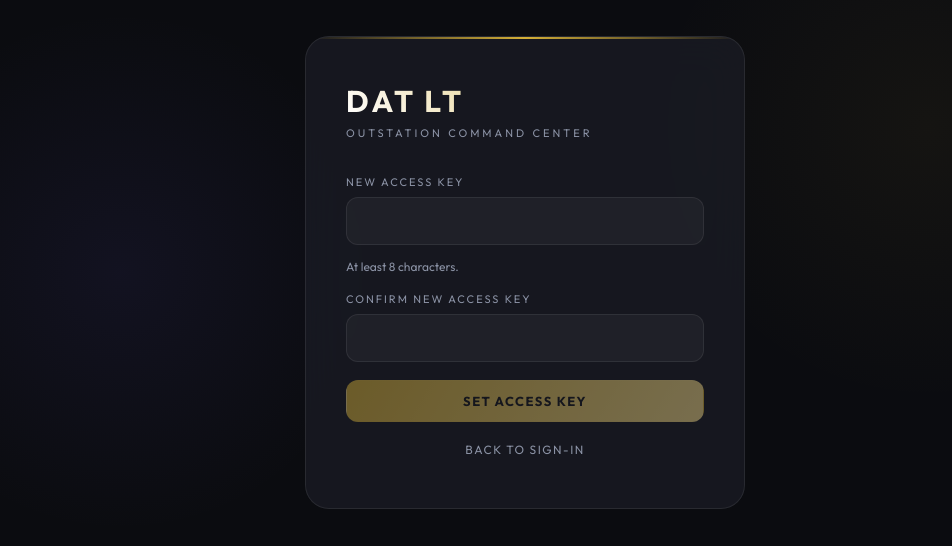
Test: Login page › following a reset link › will not submit two access keys that do not match
This screenshot has width=952, height=546.
Expected: the element with test id "auth-ready" is shown, x1=305 y1=36 x2=745 y2=508
Step 1. Type "BrandNewPassword9!" into the password field labelled "New Access Key" → (525, 220), box x1=346 y1=196 x2=704 y2=244
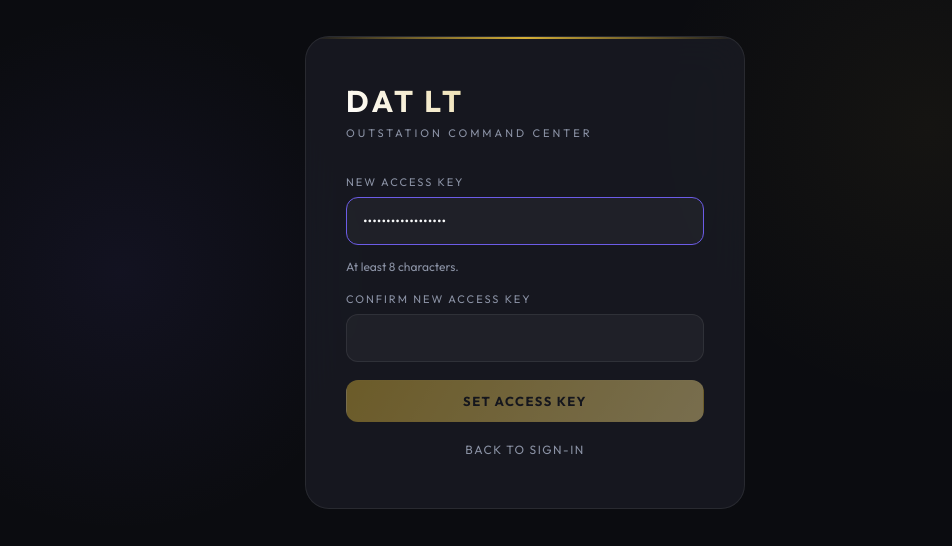
Step 2. Type "SomethingElse9!" into the password field labelled "Confirm New Access Key" → (525, 338), box x1=346 y1=314 x2=704 y2=362
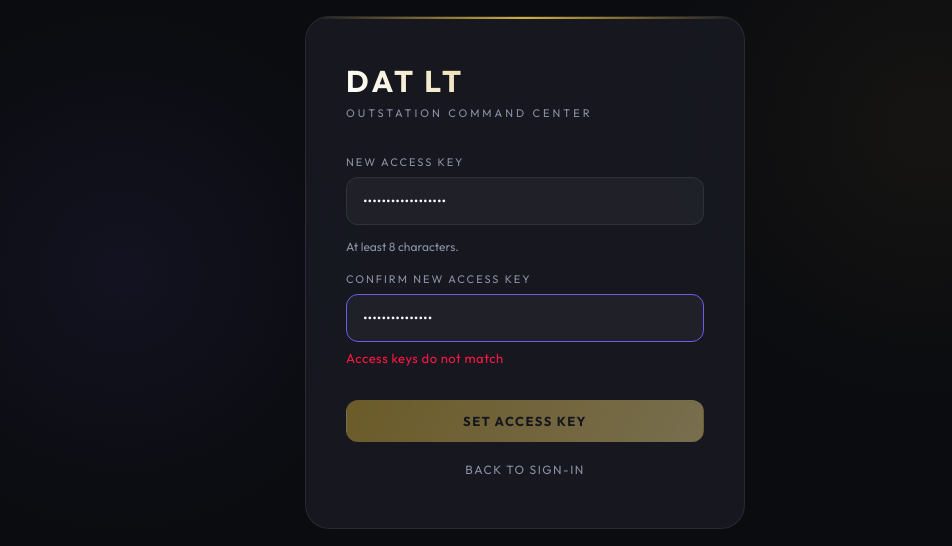
Expected: the button "Set access key" is disabled, x1=346 y1=400 x2=704 y2=442
Now the text "Access keys do not match" is shown, box x1=346 y1=350 x2=504 y2=366
